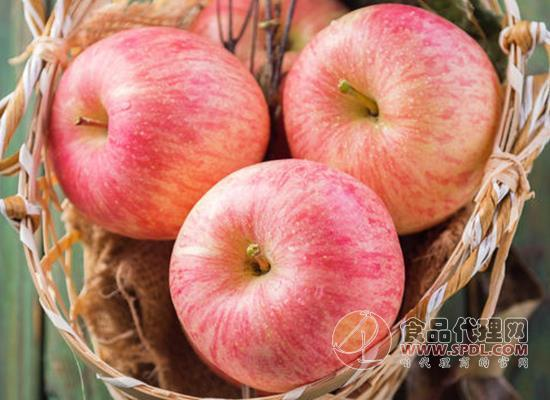apple: (169, 159, 401, 391), (41, 24, 272, 245), (283, 4, 504, 230)
